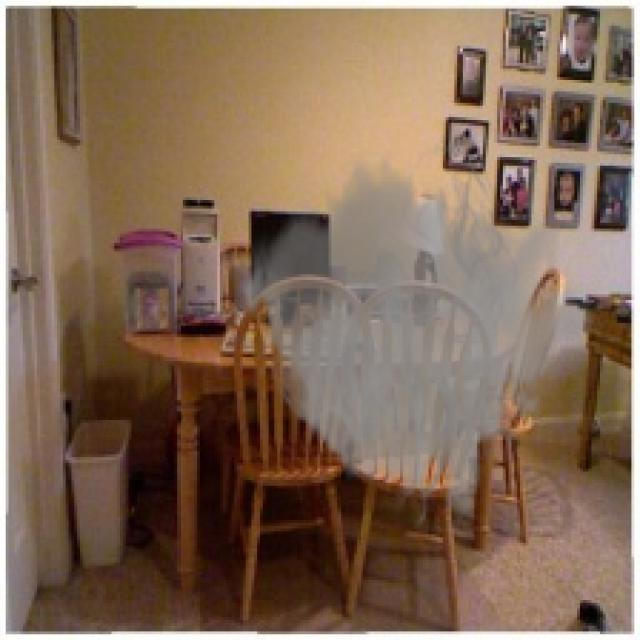Smoke: (240, 126, 597, 534)
